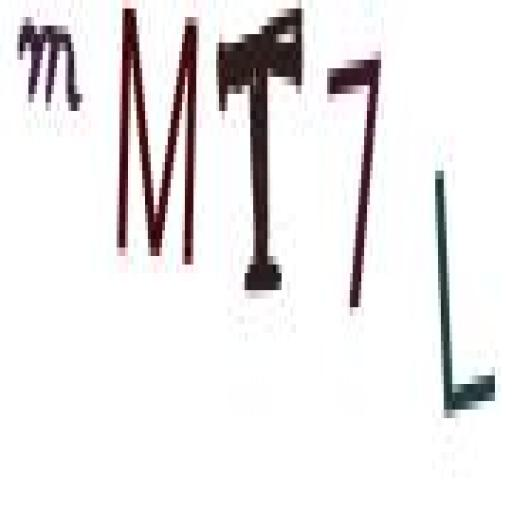7: (324, 42, 386, 326)
L: (431, 147, 501, 433)
M: (115, 3, 203, 297)
T: (214, 6, 308, 307)
m: (15, 2, 87, 136)
